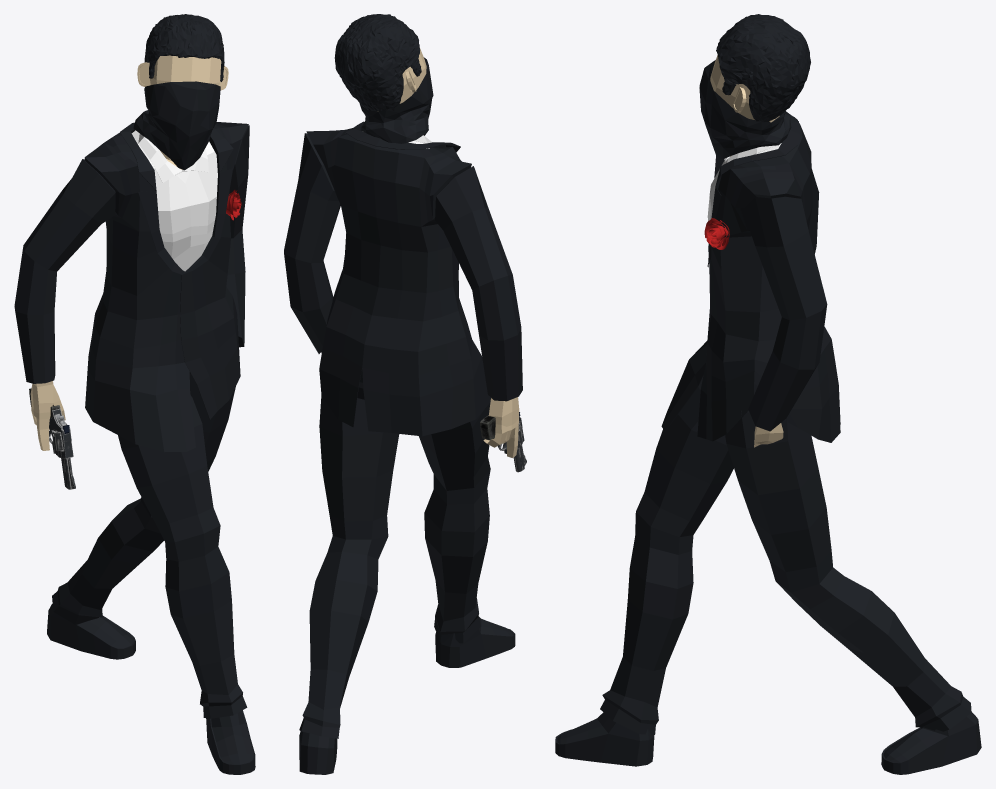
The model's file is mafia_norm.obj.
The picture shows the model from 3 angles, left to right: view 1: azimuth 30°, elevation 25°; view 2: azimuth 150°, elevation 25°; view 3: azimuth 270°, elevation 25°; orthographic projection. The views are drawn at different scales.
Visible parts, largest first — view 1: suit_Cube.014, Cube.012_Cube.016, head_hand_foot_Cube.013, shirt_Cube.015, mask_Cube.018, hair_Cube.019, revolver_Revolver_uv_merge.002; view 2: suit_Cube.014, Cube.012_Cube.016, hair_Cube.019, head_hand_foot_Cube.013, mask_Cube.018, revolver_Revolver_uv_merge.002; view 3: Cube.012_Cube.016, suit_Cube.014, head_hand_foot_Cube.013, hair_Cube.019, mask_Cube.018.
Boxes of the visible parts, x1,y1,x2,y2 form: suit_Cube.014: (14, 122, 249, 452); Cube.012_Cube.016: (52, 372, 247, 718); head_hand_foot_Cube.013: (30, 55, 255, 774); shirt_Cube.015: (131, 130, 217, 271); mask_Cube.018: (133, 81, 220, 170); hair_Cube.019: (144, 14, 224, 81); revolver_Revolver_uv_merge.002: (29, 388, 75, 489); suit_Cube.014: (284, 121, 522, 436); Cube.012_Cube.016: (299, 369, 490, 738); hair_Cube.019: (334, 14, 421, 111); head_hand_foot_Cube.013: (299, 47, 519, 774); mask_Cube.018: (359, 57, 433, 143); revolver_Revolver_uv_merge.002: (480, 412, 526, 472); Cube.012_Cube.016: (600, 376, 971, 734); suit_Cube.014: (661, 112, 840, 442); head_hand_foot_Cube.013: (555, 55, 981, 774); hair_Cube.019: (716, 14, 810, 122); mask_Cube.018: (699, 60, 791, 158).
Size of the model in its own units: 0.5882 by 1.67 by 0.863.
